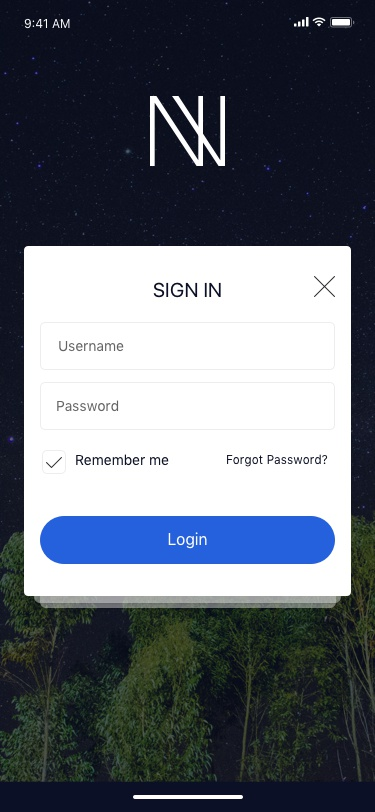BackgroundImage: (1, 1, 375, 782)
CheckedTextView: (42, 450, 170, 475)
EditText: (40, 322, 335, 371), (41, 382, 335, 431)
Icon: (313, 276, 336, 298)
Image: (150, 96, 226, 168)
Text: (227, 454, 328, 468), (76, 453, 170, 466), (154, 282, 222, 299), (59, 341, 124, 352), (57, 401, 119, 412)
TextButton: (40, 516, 335, 565)
UpperTaskBar: (25, 17, 355, 30)
